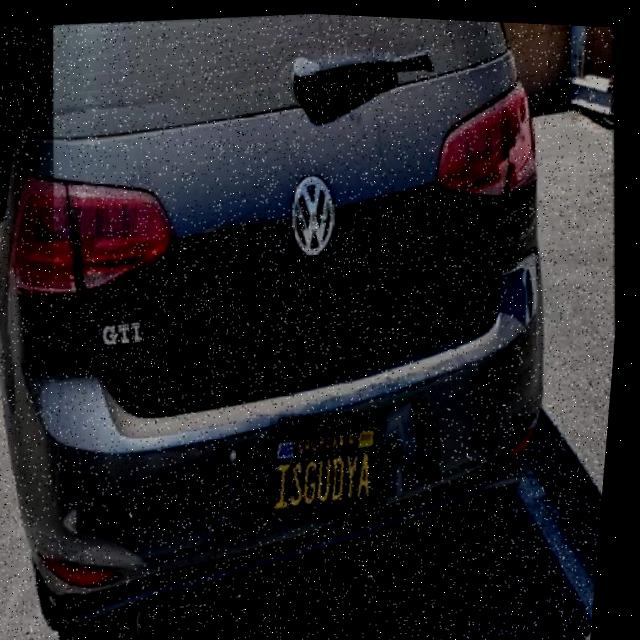LicensePlate: (269, 402, 402, 525)
